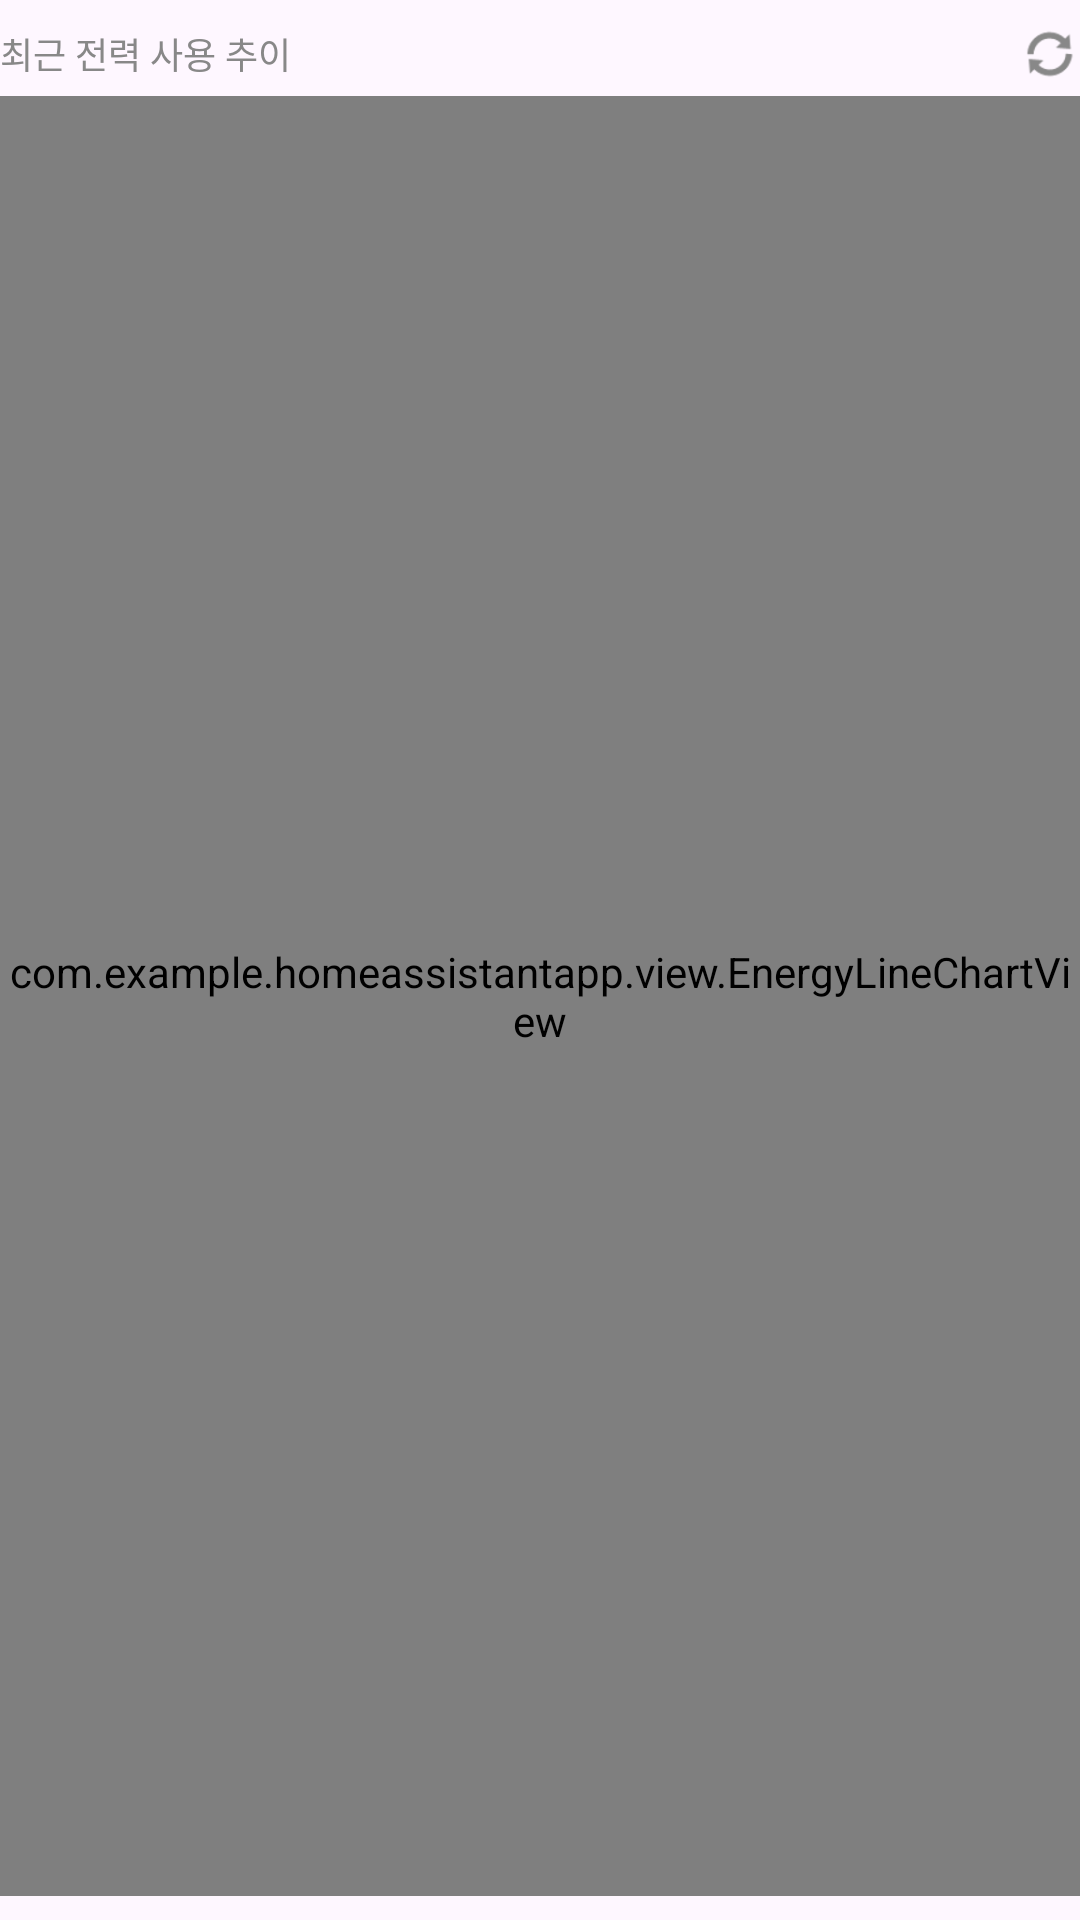

Icon bounding boxes for this 1080px×1920px phone screenshot, format bbox=(x1, y1, x2, y2):
popup sync: bbox=(1027, 32, 1073, 76)
